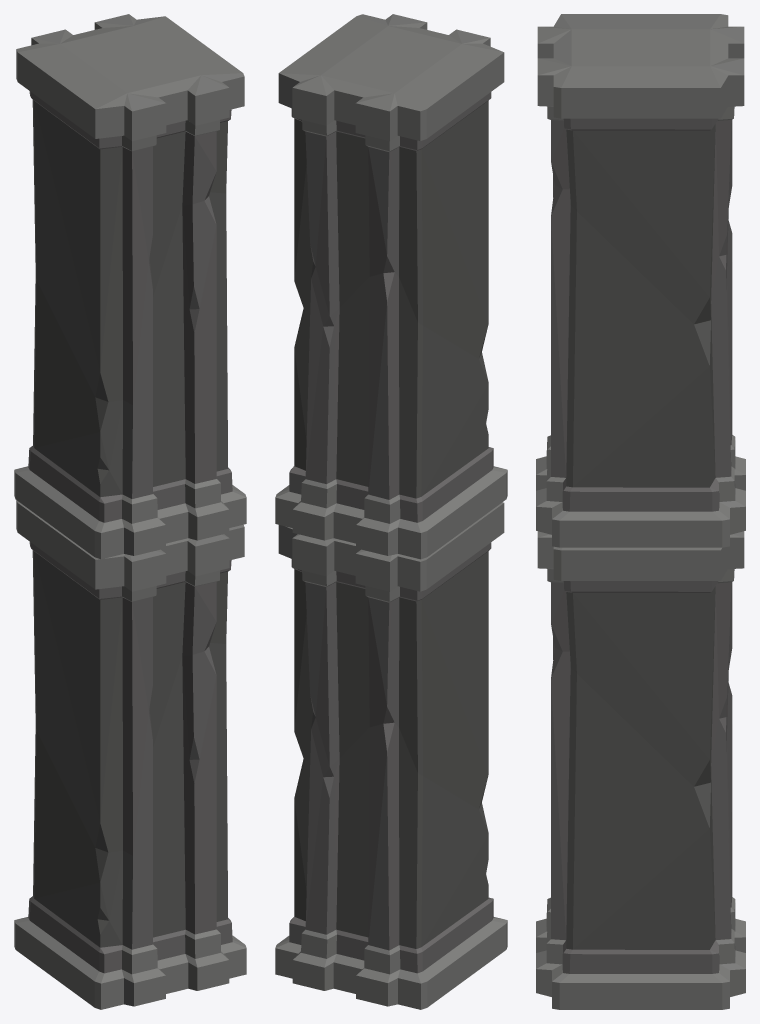
File: crypt_pillar.gltf
3 renders of one model, left to right at view 1: azimuth 30°, elevation 25°; view 2: azimuth 150°, elevation 25°; view 3: azimuth 270°, elevation 25°, orthographic. The views are drawn at different scales.
Visible parts, largest first — view 1: crypt_pillar; view 2: crypt_pillar; view 3: crypt_pillar.
Boxes of the visible parts, x1=… form: crypt_pillar: x1=14, y1=14, x2=246, y2=1009; crypt_pillar: x1=275, y1=14, x2=507, y2=1009; crypt_pillar: x1=536, y1=14, x2=745, y2=1009.
Bounding box in the file's own units: 1.05 × 6 × 1.23.
Materials: 1 (1 with a texture image).
